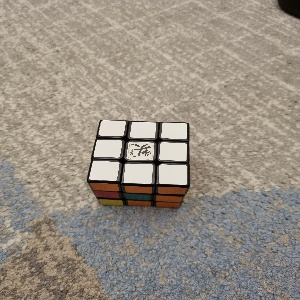cube: (86, 119, 190, 211)
